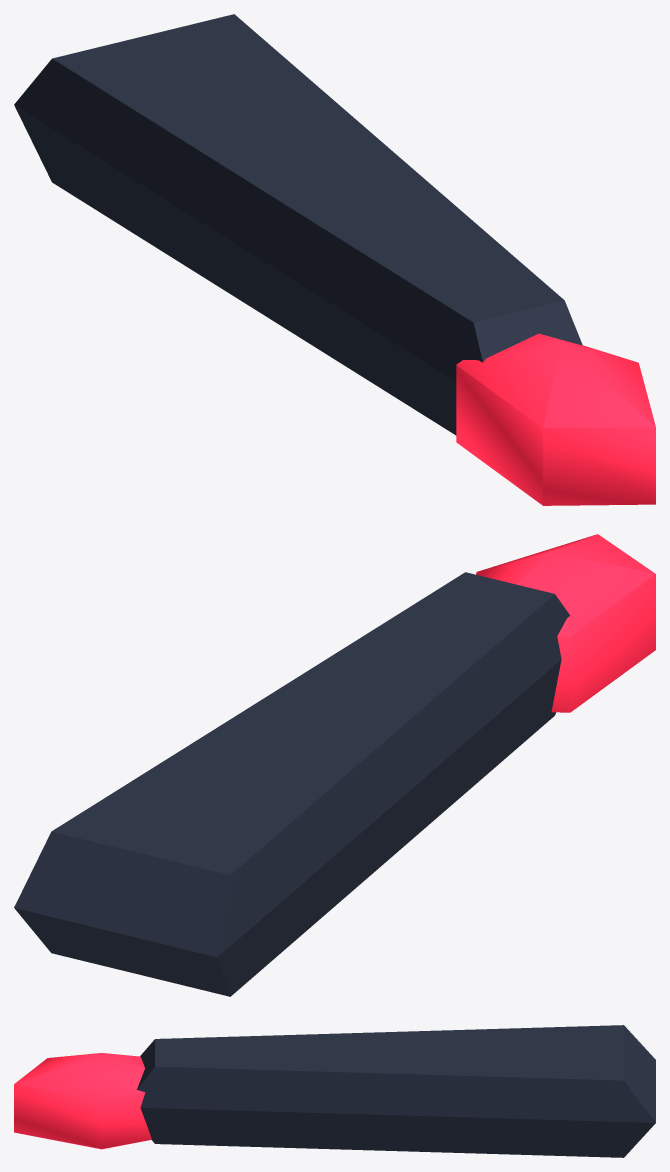
File: bf_elite_rear_gunner.glb
3 views of the same model, one above another, from view 1: azimuth 30°, elevation 25°; view 2: azimuth 150°, elevation 25°; view 3: azimuth 270°, elevation 25° (orthographic). The views are drawn at different scales.
Parts seen in each view (by area): view 1: ELITE // STINGER; view 2: ELITE // STINGER; view 3: ELITE // STINGER.
Part boxes in pixels (left/top/right/bottom): ELITE // STINGER: left=14, top=14, right=655, bottom=505; ELITE // STINGER: left=14, top=534, right=655, bottom=996; ELITE // STINGER: left=14, top=1025, right=655, bottom=1157.
Size of the model in its own units: 0.119 by 0.085 by 0.512.
